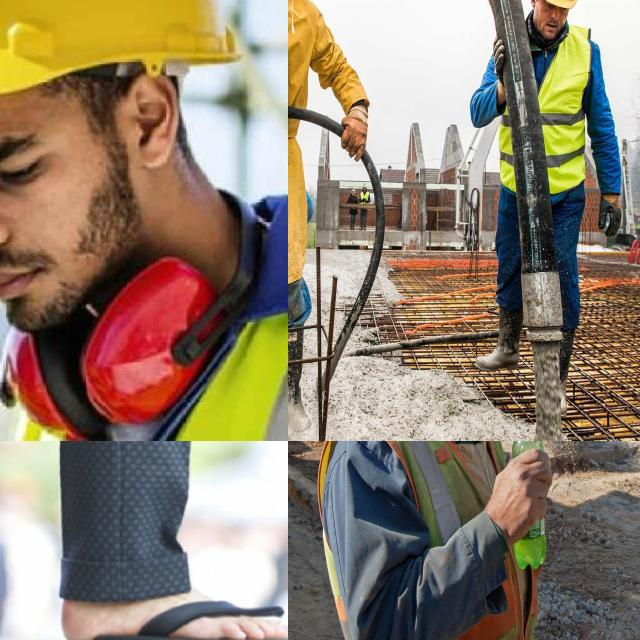No_Ear-Protection: (128, 70, 180, 173)
No_Glasses: (0, 122, 71, 219)
Sandals: (59, 551, 288, 640)
boots: (288, 323, 317, 440), (476, 305, 520, 372)
face_nomask: (518, 0, 569, 46)
hand_glove: (592, 175, 628, 250), (335, 99, 374, 159), (488, 44, 516, 91)
hand_noglove: (485, 445, 554, 550)
person: (476, 0, 622, 405), (323, 441, 544, 640), (288, 0, 359, 434), (359, 185, 371, 233), (347, 188, 358, 232)
vest: (313, 441, 545, 640), (498, 23, 590, 192)
